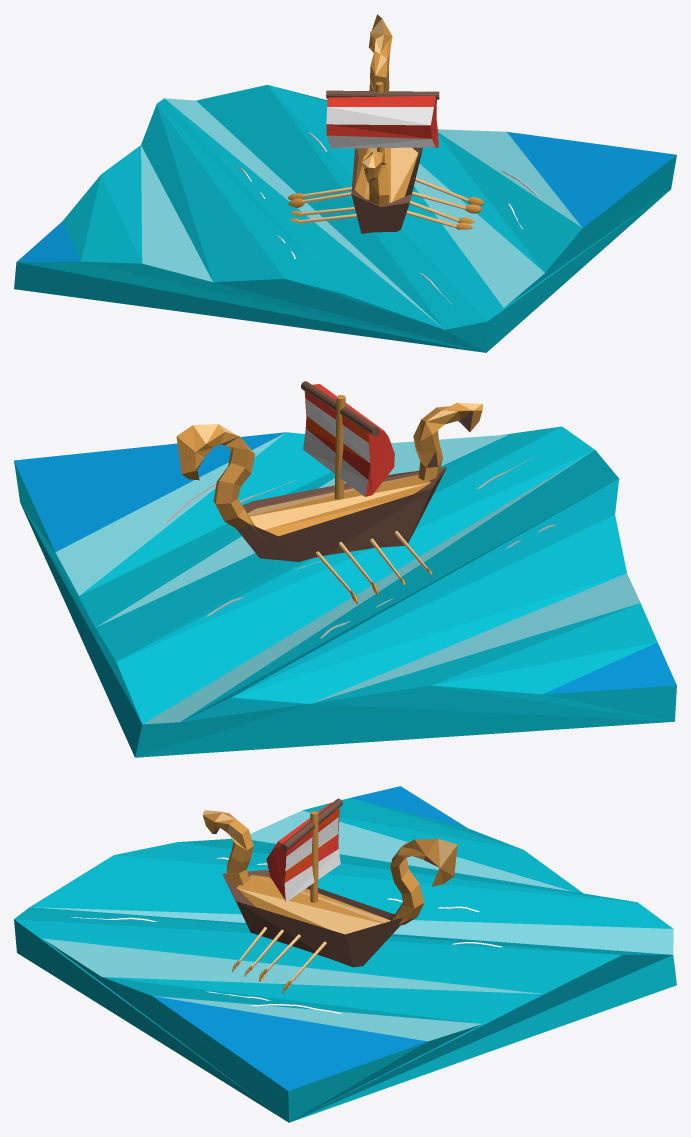
File: scene_MDzwvti7ar.glb
The picture shows the model from 3 angles, top to bottom: view 1: azimuth 30°, elevation 25°; view 2: azimuth 150°, elevation 25°; view 3: azimuth 270°, elevation 25°; orthographic projection. The views are drawn at different scales.
Parts seen in each view (by area): view 1: group756767739, group2114174245; view 2: group756767739, group2114174245; view 3: group756767739, group2114174245.
Boxes of the visible parts, x1,y1,x2,y2 form: group756767739: (14, 84, 676, 352); group2114174245: (287, 14, 484, 233); group756767739: (14, 426, 676, 757); group2114174245: (176, 381, 482, 604); group756767739: (14, 786, 676, 1122); group2114174245: (203, 798, 457, 993).
Size of the model in its own units: 3.53 by 0.9757 by 3.25.
